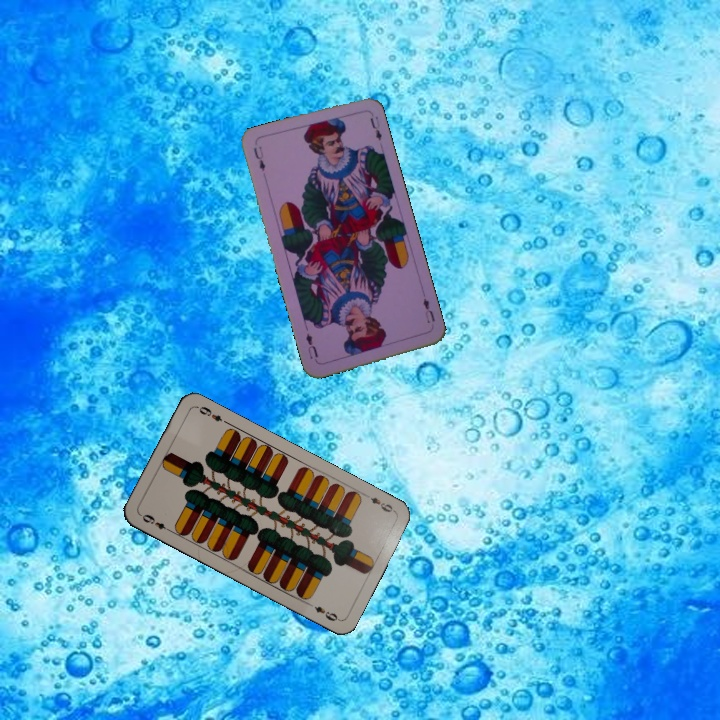E9: (136, 510, 174, 535), (360, 490, 398, 515)
EU: (249, 142, 268, 174), (419, 294, 437, 326)
